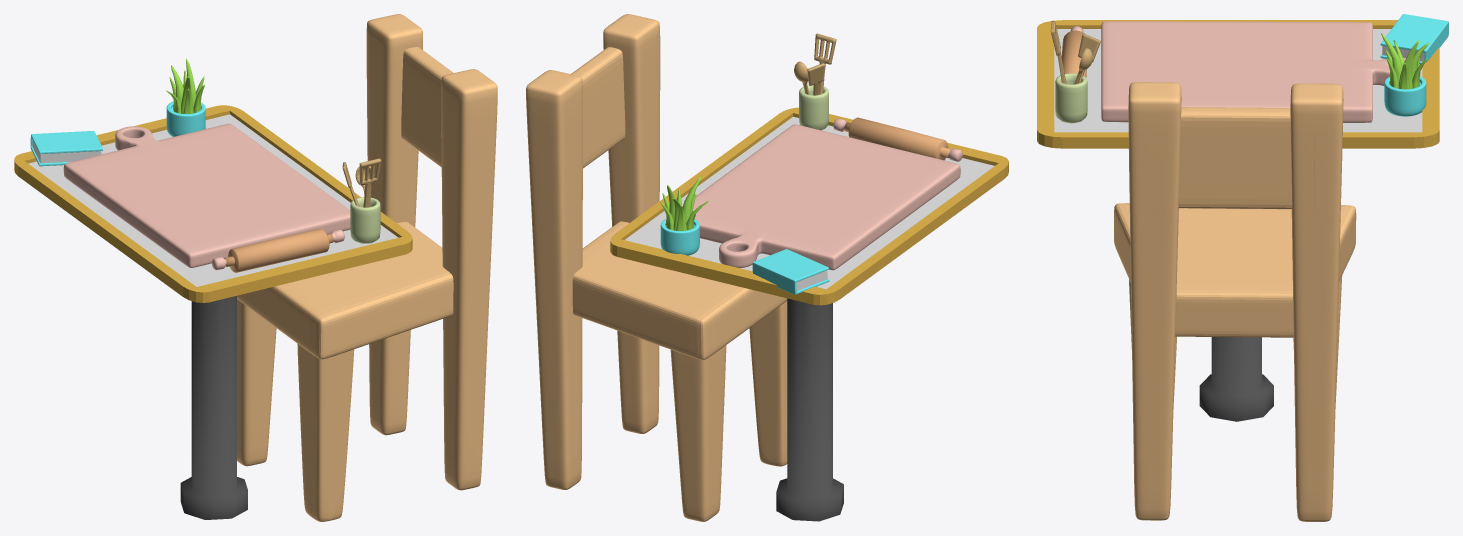
The model's file is 3D_Decors.fbx.
3 views of the same model, side by side, from view 1: azimuth 30°, elevation 25°; view 2: azimuth 150°, elevation 25°; view 3: azimuth 270°, elevation 25° (orthographic). The views are drawn at different scales.
Parts seen in each view (by area): view 1: MAP; view 2: MAP; view 3: MAP.
Boxes of the visible parts, box(x1,y1,x2,y2) form: MAP: box(14, 14, 497, 521); MAP: box(526, 14, 1008, 521); MAP: box(1037, 14, 1448, 521).
Size of the model in its own units: 3.71 by 4.05 by 3.51.
